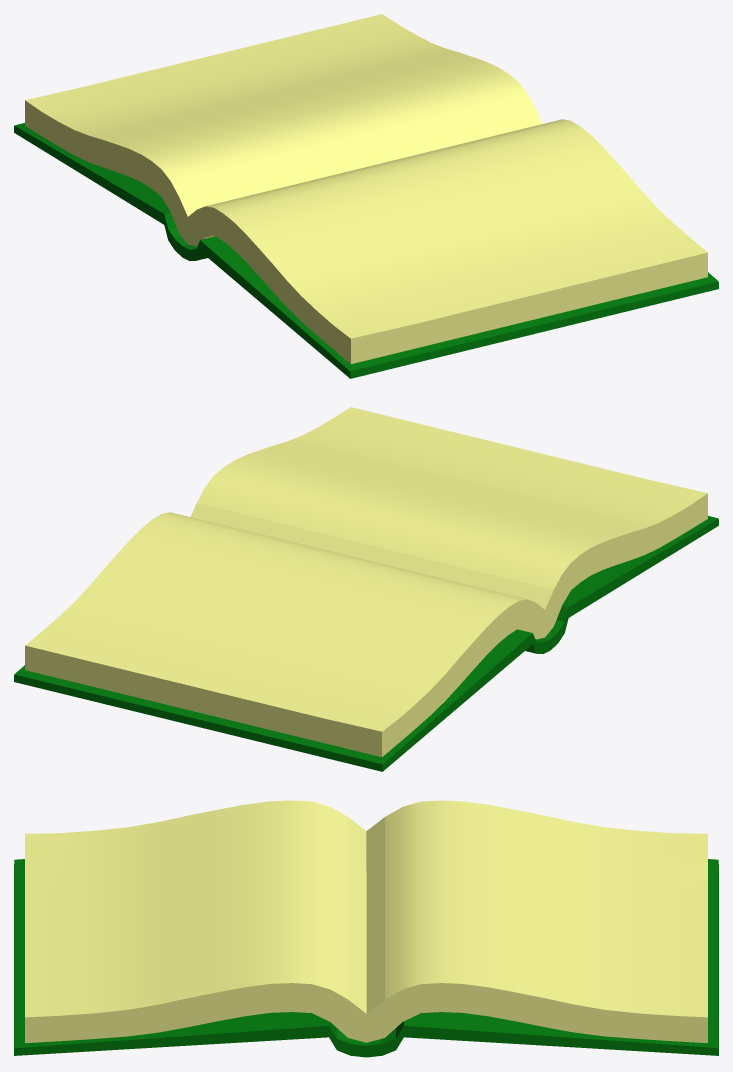
The model's file is bookopen.fbx.
The picture shows the model from 3 angles, top to bottom: view 1: azimuth 30°, elevation 25°; view 2: azimuth 150°, elevation 25°; view 3: azimuth 270°, elevation 25°; orthographic projection. The views are drawn at different scales.
Parts seen in each view (by area): view 1: bookpages001, bookcover001; view 2: bookpages001, bookcover001; view 3: bookpages001, bookcover001.
Boxes of the visible parts, left/top/right/bottom form: bookpages001: left=25, top=14, right=707, bottom=363; bookcover001: left=14, top=123, right=718, bottom=378; bookpages001: left=25, top=407, right=707, bottom=756; bookcover001: left=14, top=516, right=718, bottom=771; bookpages001: left=25, top=800, right=707, bottom=1043; bookcover001: left=14, top=859, right=718, bottom=1057.
Size of the model in its own units: 3.49 by 5.51 by 0.6178.
